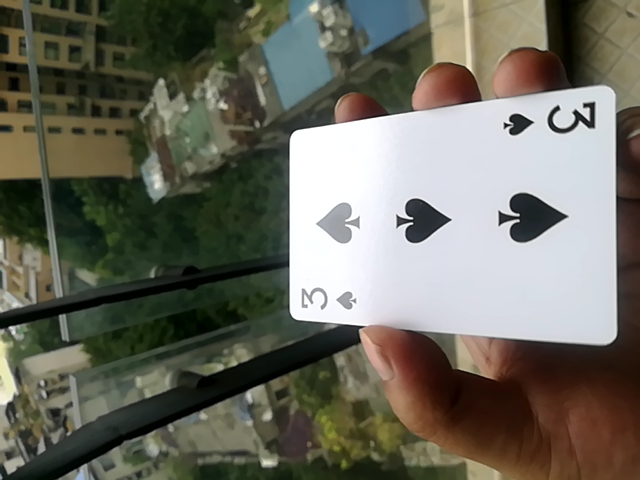ht 3: (279, 84, 623, 355)
